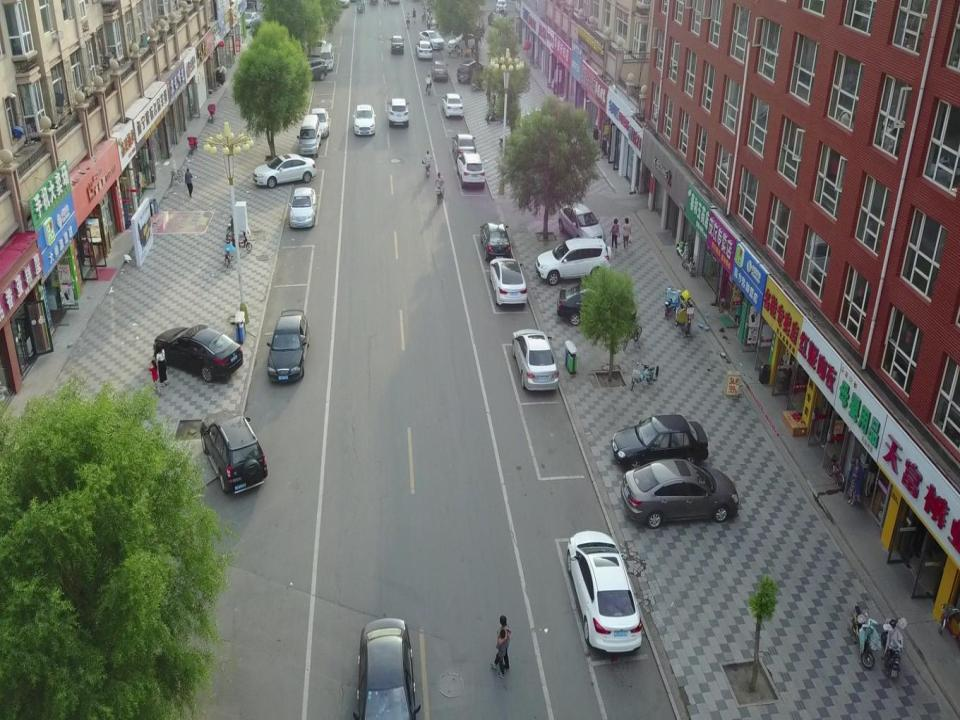car: (565, 530, 643, 654), (621, 456, 739, 529), (355, 617, 420, 720), (199, 409, 270, 495), (613, 415, 708, 472), (154, 325, 244, 384), (537, 237, 609, 284), (512, 328, 560, 396), (269, 309, 308, 386), (560, 288, 626, 324), (250, 154, 316, 187), (490, 257, 527, 311), (555, 206, 605, 245), (482, 221, 515, 264), (456, 154, 488, 190), (289, 186, 316, 227), (351, 102, 377, 136), (452, 133, 476, 161), (388, 96, 408, 126), (441, 93, 464, 119), (313, 108, 331, 136), (312, 57, 326, 78)
van: (300, 113, 321, 159), (454, 60, 483, 84), (449, 33, 480, 52), (421, 26, 443, 46), (434, 58, 448, 82), (416, 38, 432, 56), (390, 33, 403, 55), (323, 43, 333, 66)
